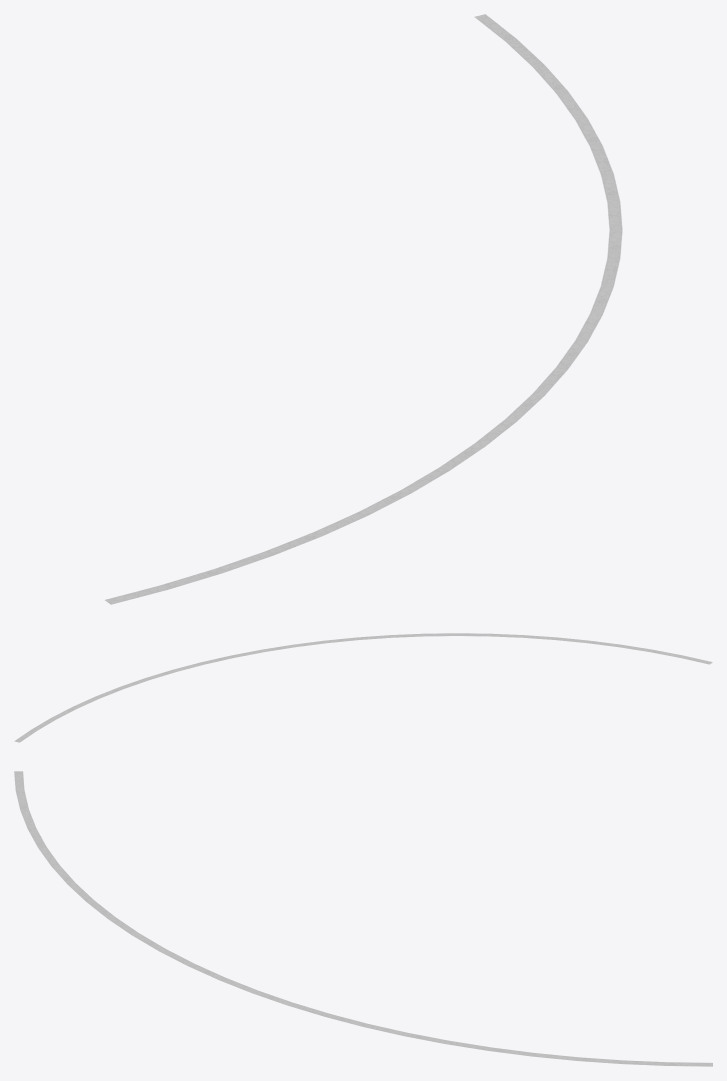
File: decal_curve_4laneshort_stripe.glb
3 views of the same model, one above another, from view 1: azimuth 30°, elevation 25°; view 2: azimuth 150°, elevation 25°; view 3: azimuth 270°, elevation 25° (orthographic). The views are drawn at different scales.
Parts seen in each view (by area): view 1: Decal_Curve_4LaneShort_Stripe; view 2: Decal_Curve_4LaneShort_Stripe; view 3: Decal_Curve_4LaneShort_Stripe.
Boxes of the visible parts, bbox=[...] form: Decal_Curve_4LaneShort_Stripe: bbox=[105, 14, 622, 604]; Decal_Curve_4LaneShort_Stripe: bbox=[14, 633, 712, 742]; Decal_Curve_4LaneShort_Stripe: bbox=[14, 771, 712, 1066].
Size of the model in its own units: 14.8 by 0 by 14.8.
1 material, 1 textured.
